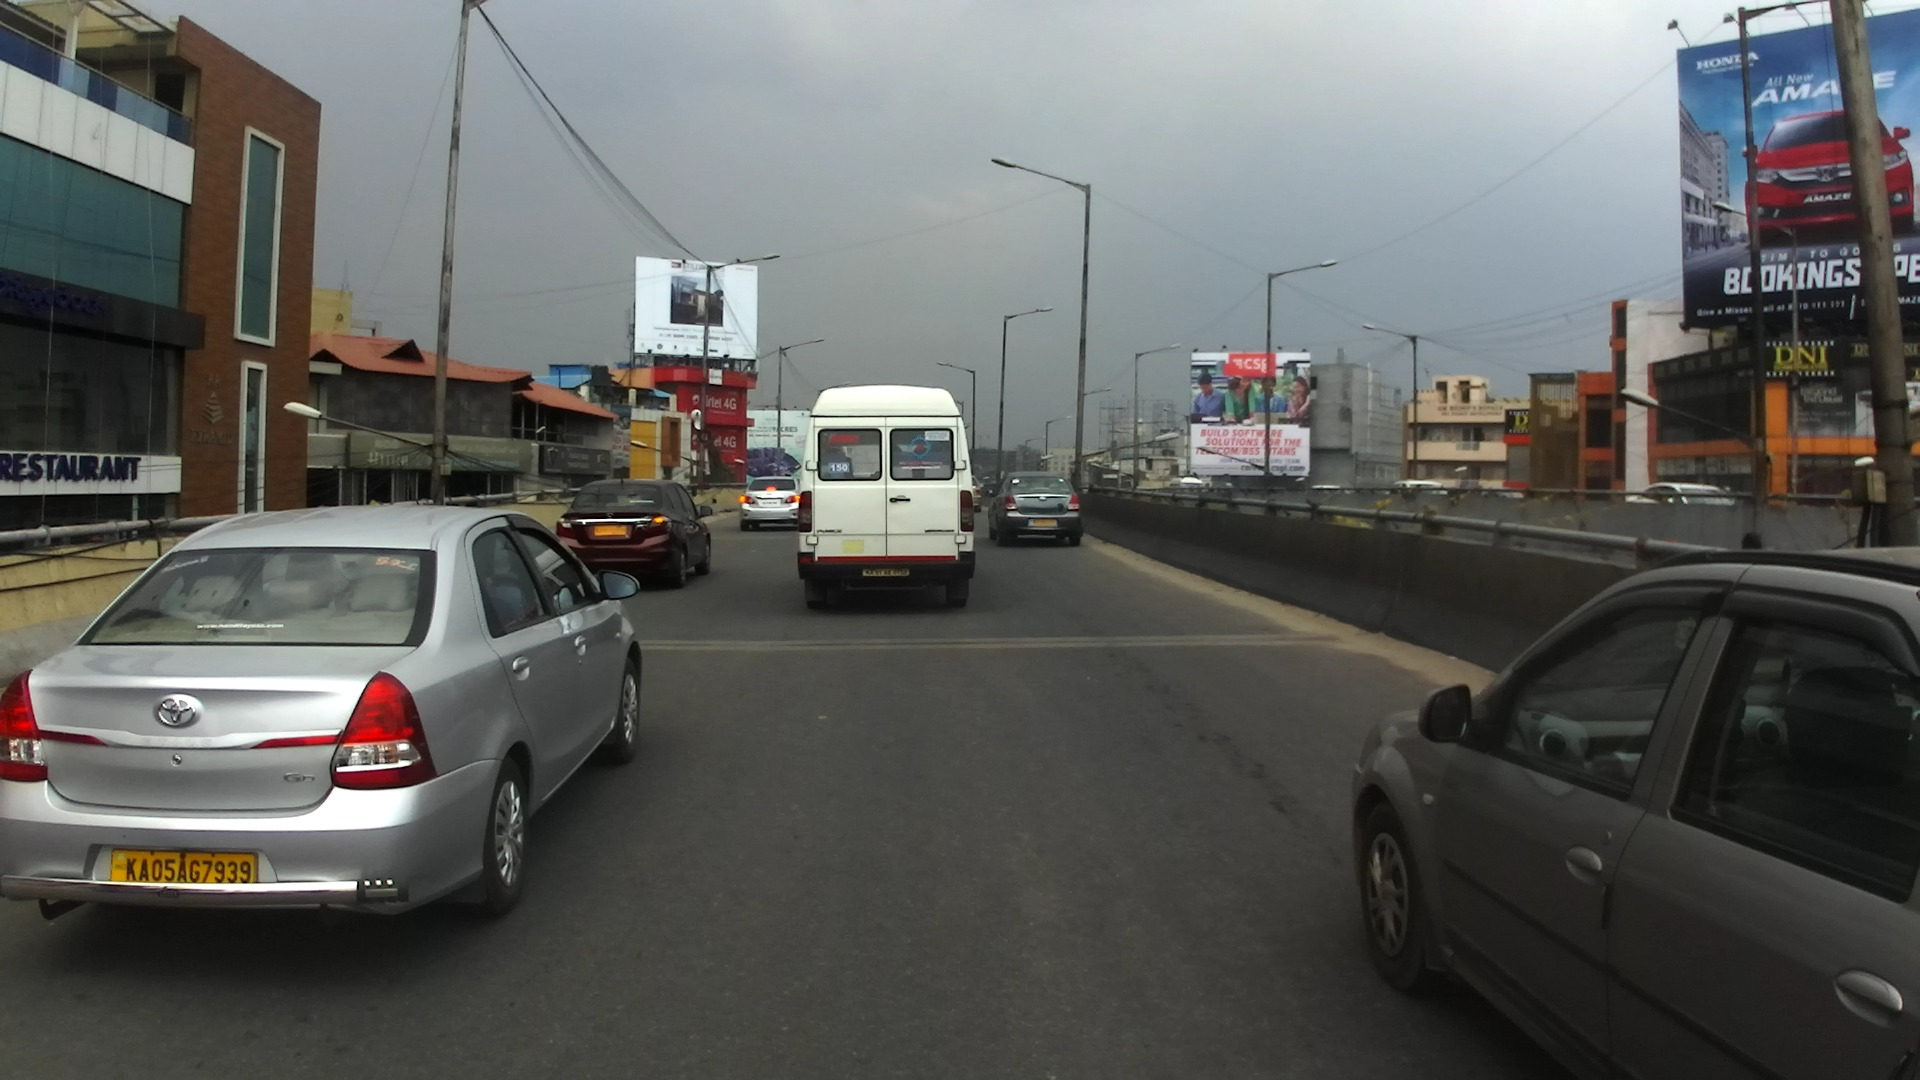bus: (796, 384, 973, 608), (1169, 478, 1203, 489)
car: (1354, 549, 1920, 1080), (1, 504, 644, 921), (555, 474, 713, 588), (986, 470, 1084, 549), (738, 477, 799, 529), (1624, 482, 1734, 504), (1385, 481, 1448, 495), (971, 474, 981, 513), (1311, 484, 1350, 494)
rider: (1738, 528, 1763, 551)
vehicle fallback: (1089, 470, 1124, 487), (1486, 488, 1523, 499), (1211, 483, 1233, 487)
